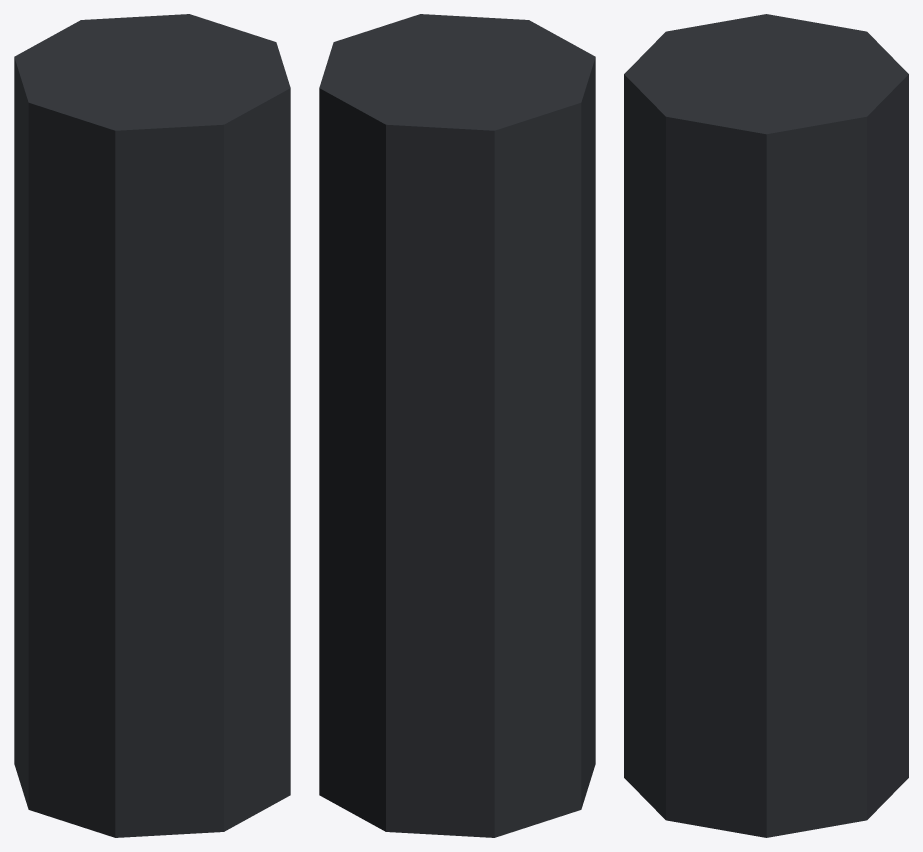
The model's file is Muzzle_AK_FlashHider.fbx.
3 views of the same model, side by side, from view 1: azimuth 30°, elevation 25°; view 2: azimuth 150°, elevation 25°; view 3: azimuth 270°, elevation 25° (orthographic).
Visible parts, largest first — view 1: prims; view 2: prims; view 3: prims.
Boxes of the visible parts, x1,y1,x2,y2 form: prims: [14, 14, 290, 837]; prims: [319, 14, 595, 837]; prims: [624, 14, 908, 837].
Bounding box in the file's own units: 0.0132 × 0.036 × 0.0132.
